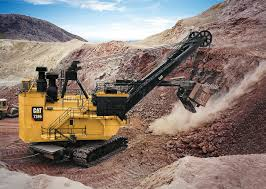excavator: (17, 28, 221, 169)
